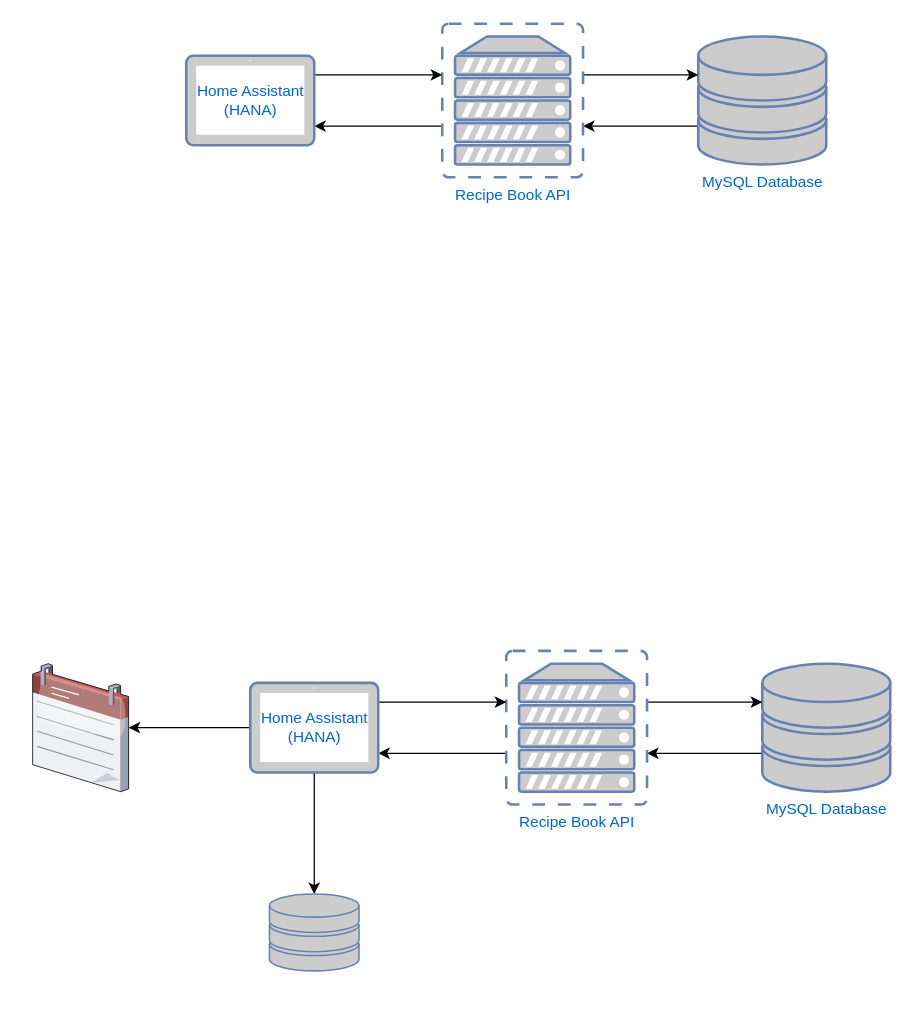
This 913x1019 diagram has some shape labels left out. The shapes that lost their labels are listed below. From the top down, each one's centre as x and y in pixels, then its label:
the point at 80,727: Google Calendar
the point at 314,932: Home Assistant Shopping List
